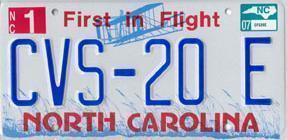placa de veiculo: (2, 0, 285, 137)
